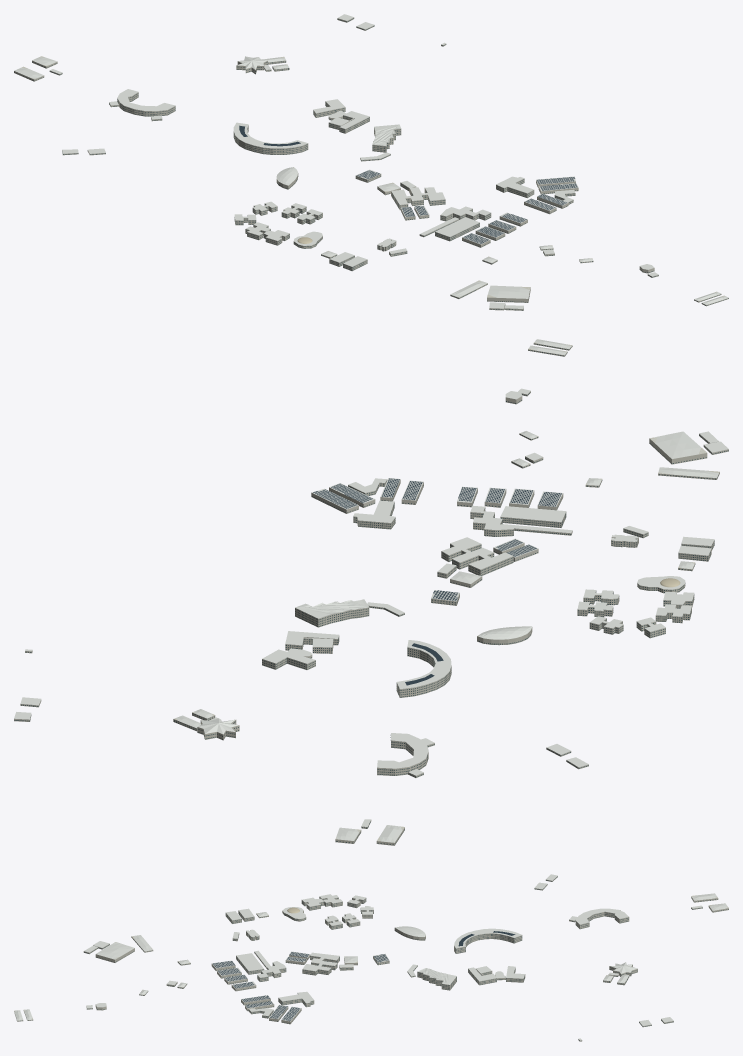
The model's file is UMPSA-Pekan.glb.
The picture shows the model from 3 angles, top to bottom: view 1: azimuth 30°, elevation 25°; view 2: azimuth 150°, elevation 25°; view 3: azimuth 270°, elevation 25°; orthographic projection. The views are drawn at different scales.
Parts seen in each view (by area): view 1: Pusat Canseleri UMPSA Pekan - campus exterior, Fakulti Komputeran (FK) - campus exterior, Fakulti Teknologi Kejuruteraan Elektrik dan Elektronik (FTKE, Kompleks Sukan UMPSA Pekan - indoor hall - campus exterior, Perpustakaan UMPSA Pekan - campus exterior, FTKMA west teaching block - campus exterior, Canseleri precinct - southeast academic wing - campus exteri, Fakulti Teknologi Kejuruteraan Mekanikal dan Automotif (FTKM, Faculty of Engineering Technology - main block - campus exte; view 2: Pusat Canseleri UMPSA Pekan - campus exterior, Fakulti Teknologi Kejuruteraan Elektrik dan Elektronik (FTKE, Perpustakaan UMPSA Pekan - campus exterior, Fakulti Komputeran (FK) - campus exterior, Kompleks Sukan UMPSA Pekan - indoor hall - campus exterior, FTKMA west teaching block - campus exterior, Canseleri precinct - southeast academic wing - campus exteri, Fakulti Teknologi Kejuruteraan Mekanikal dan Automotif (FTKM, Dewan Cheese UMPSA Pekan - campus exterior, Faculty of Engineering Technology - main block - campus exte; view 3: Pusat Canseleri UMPSA Pekan - campus exterior, Fakulti Teknologi Kejuruteraan Elektrik dan Elektronik (FTKE, Fakulti Komputeran (FK) - campus exterior, Perpustakaan UMPSA Pekan - campus exterior, Kompleks Sukan UMPSA Pekan - indoor hall - campus exterior, Canseleri precinct - southeast academic wing - campus exteri, FTKMA west teaching block - campus exterior, Faculty of Engineering Technology - main block - campus exte, Fakulti Teknologi Kejuruteraan Mekanikal dan Automotif (FTKM, Dewan Cheese UMPSA Pekan - campus exterior.
Boxes of the visible parts, x1=… form: Pusat Canseleri UMPSA Pekan - campus exterior: x1=233, y1=122, x2=308, y2=154; Fakulti Komputeran (FK) - campus exterior: x1=117, y1=89, x2=175, y2=116; Fakulti Teknologi Kejuruteraan Elektrik dan Elektronik (FTKE: x1=391, y1=187, x2=445, y2=209; Kompleks Sukan UMPSA Pekan - indoor hall - campus exterior: x1=487, y1=285, x2=530, y2=302; Perpustakaan UMPSA Pekan - campus exterior: x1=372, y1=124, x2=401, y2=152; FTKMA west teaching block - campus exterior: x1=435, y1=217, x2=479, y2=241; Canseleri precinct - southeast academic wing - campus exteri: x1=328, y1=111, x2=369, y2=133; Fakulti Teknologi Kejuruteraan Mekanikal dan Automotif (FTKM: x1=440, y1=206, x2=491, y2=221; Faculty of Engineering Technology - main block - campus exte: x1=496, y1=176, x2=534, y2=198; Pusat Canseleri UMPSA Pekan - campus exterior: x1=396, y1=640, x2=451, y2=697; Fakulti Teknologi Kejuruteraan Elektrik dan Elektronik (FTKE: x1=441, y1=537, x2=513, y2=575; Perpustakaan UMPSA Pekan - campus exterior: x1=295, y1=599, x2=369, y2=627; Fakulti Komputeran (FK) - campus exterior: x1=377, y1=733, x2=428, y2=775; Kompleks Sukan UMPSA Pekan - indoor hall - campus exterior: x1=649, y1=431, x2=707, y2=464; FTKMA west teaching block - campus exterior: x1=500, y1=506, x2=566, y2=527; Canseleri precinct - southeast academic wing - campus exteri: x1=285, y1=631, x2=339, y2=653; Fakulti Teknologi Kejuruteraan Mekanikal dan Automotif (FTKM: x1=470, y1=505, x2=513, y2=536; Dewan Cheese UMPSA Pekan - campus exterior: x1=477, y1=626, x2=532, y2=645; Faculty of Engineering Technology - main block - campus exte: x1=353, y1=500, x2=395, y2=529; Pusat Canseleri UMPSA Pekan - campus exterior: x1=454, y1=928, x2=522, y2=953; Fakulti Teknologi Kejuruteraan Elektrik dan Elektronik (FTKE: x1=302, y1=952, x2=339, y2=975; Fakulti Komputeran (FK) - campus exterior: x1=575, y1=908, x2=629, y2=929; Perpustakaan UMPSA Pekan - campus exterior: x1=417, y1=968, x2=456, y2=990; Kompleks Sukan UMPSA Pekan - indoor hall - campus exterior: x1=95, y1=942, x2=134, y2=962; Canseleri precinct - southeast academic wing - campus exteri: x1=468, y1=966, x2=496, y2=985; FTKMA west teaching block - campus exterior: x1=236, y1=953, x2=264, y2=974; Faculty of Engineering Technology - main block - campus exte: x1=278, y1=991, x2=314, y2=1007; Fakulti Teknologi Kejuruteraan Mekanikal dan Automotif (FTKM: x1=257, y1=961, x2=286, y2=981; Dewan Cheese UMPSA Pekan - campus exterior: x1=394, y1=926, x2=425, y2=940.
Size of the model in its own units: 1133 by 18.99 by 2059.
